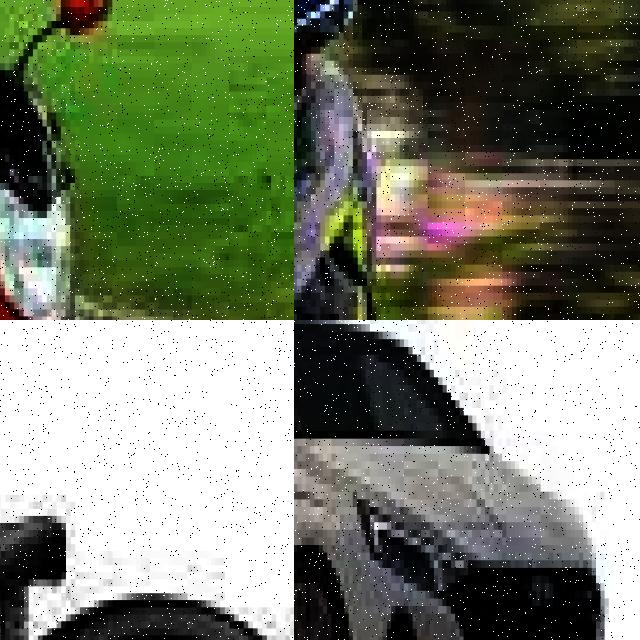bike: (0, 320, 294, 640), (0, 49, 154, 320), (294, 236, 427, 320)
car: (294, 320, 621, 640)
